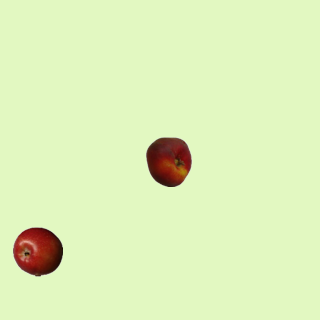Apple Braeburn: (12, 226, 62, 276)
Nectarine Flat: (143, 136, 193, 186)
